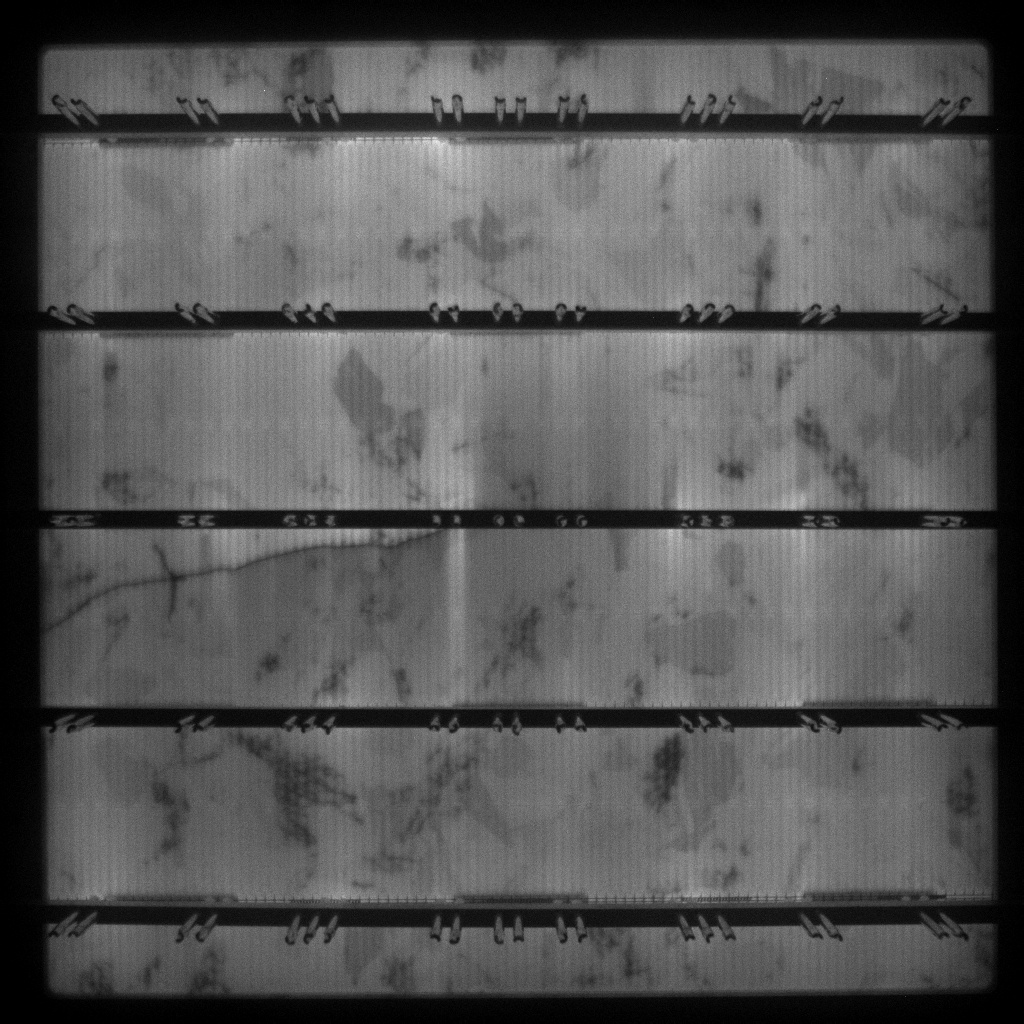crack: (47, 532, 446, 642)
